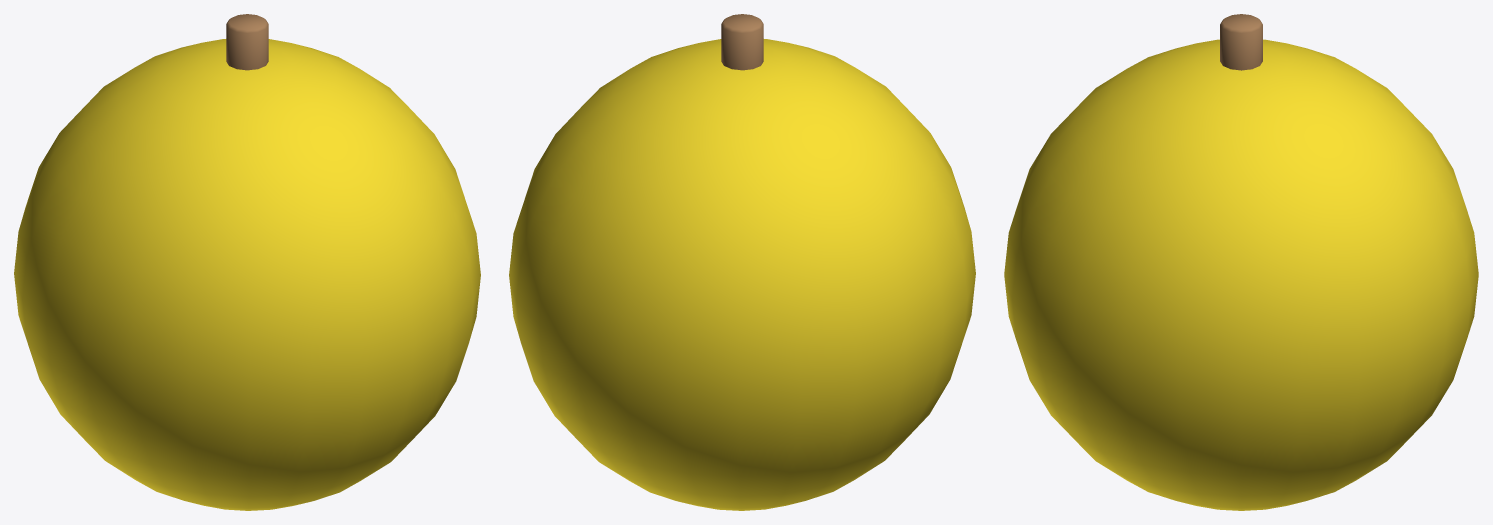
File: SM_EG_Fruit_lemon_Stemmed_b6eb464ced.fbx
3 renders of one model, left to right at view 1: azimuth 30°, elevation 25°; view 2: azimuth 150°, elevation 25°; view 3: azimuth 270°, elevation 25°, orthographic.
Visible parts, largest first — view 1: SM_EG_Fruit_lemon_Stemmed_b6eb464ced; view 2: SM_EG_Fruit_lemon_Stemmed_b6eb464ced; view 3: SM_EG_Fruit_lemon_Stemmed_b6eb464ced.
Boxes of the visible parts, box(x1,y1,x2,y2) form: SM_EG_Fruit_lemon_Stemmed_b6eb464ced: box(14, 14, 480, 510); SM_EG_Fruit_lemon_Stemmed_b6eb464ced: box(509, 14, 975, 510); SM_EG_Fruit_lemon_Stemmed_b6eb464ced: box(1004, 14, 1478, 510).
Size of what is drawn, in the model's own units: 19.6 by 20 by 21.75.
